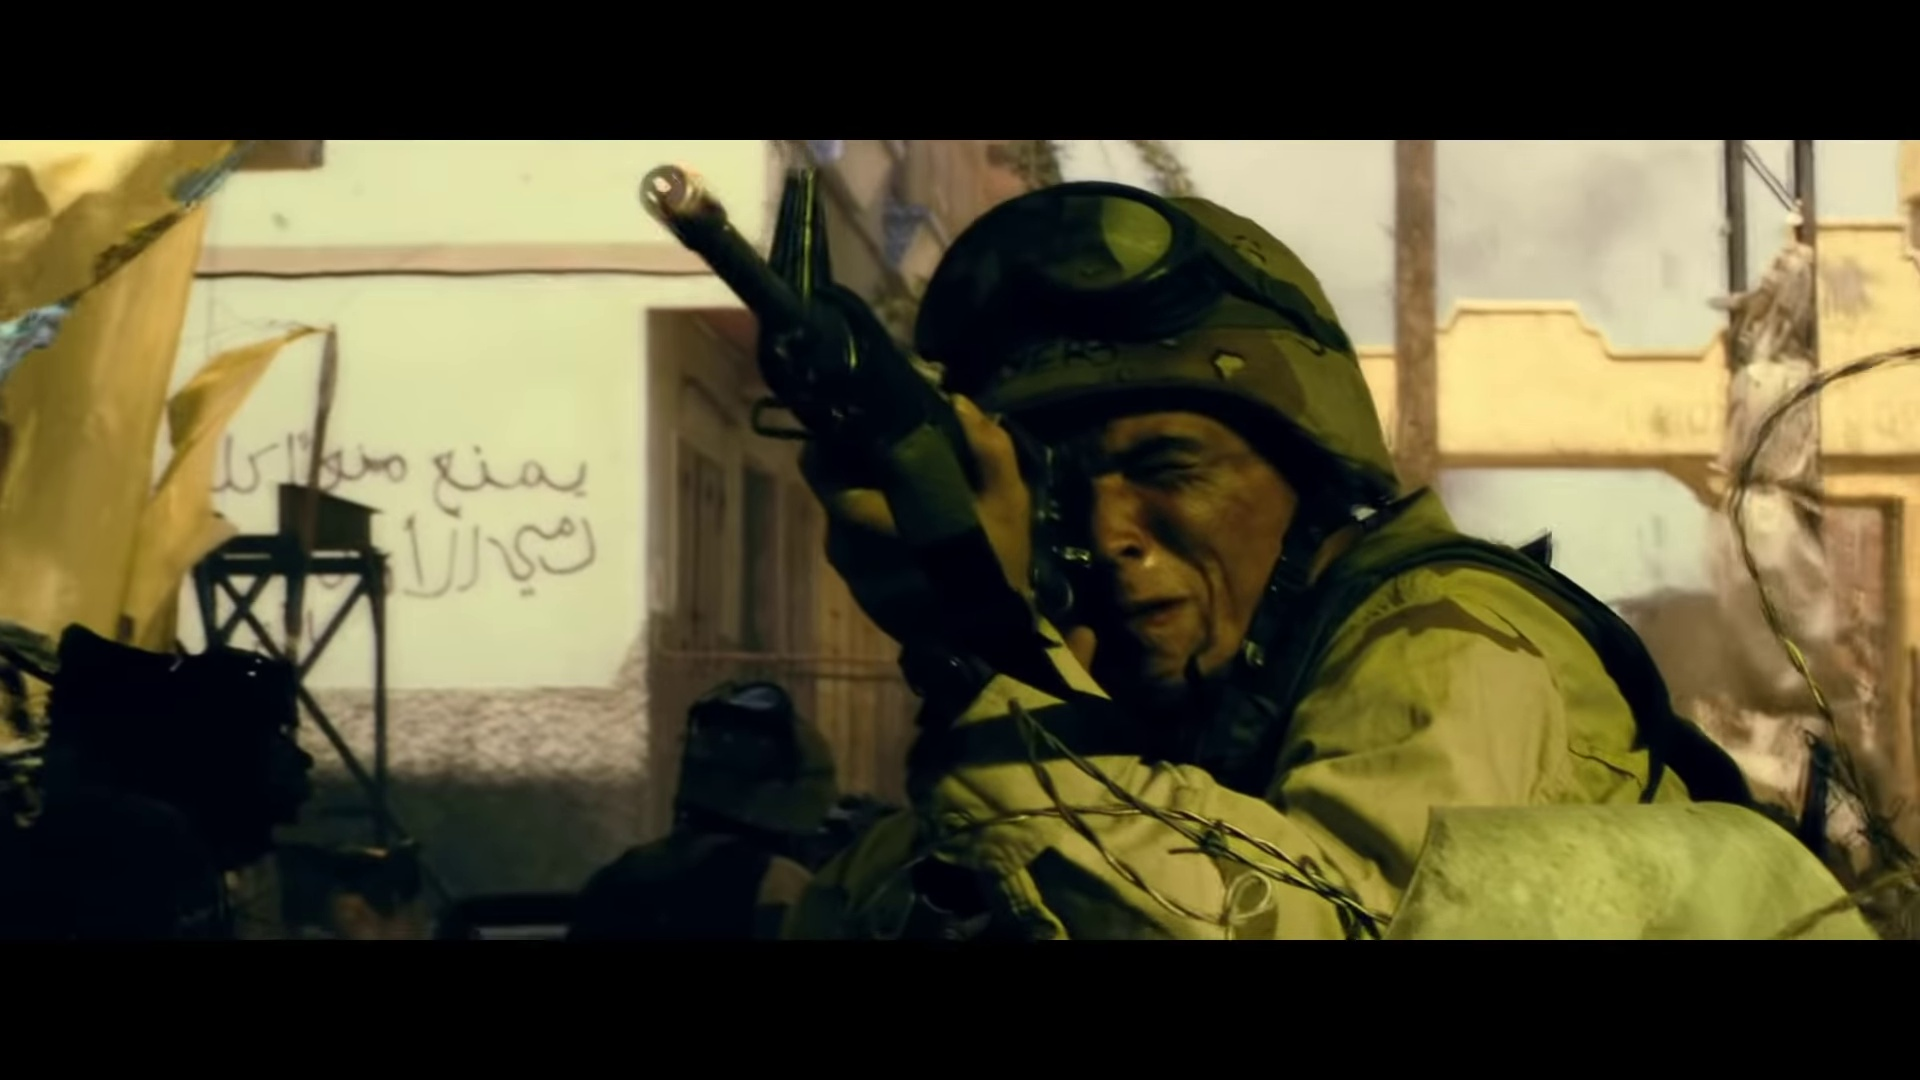gun: (629, 141, 1036, 640)
p_w_gun: (621, 138, 1713, 944)
